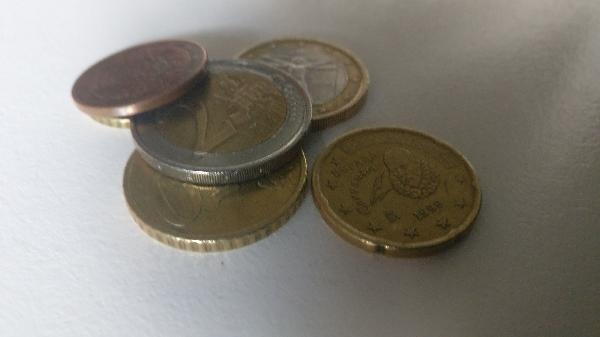Fifty Cent: (121, 145, 311, 258)
Five Cent: (69, 38, 212, 119)
One Euro: (238, 39, 371, 129)
Twenty Cent: (312, 125, 488, 258)
Two Euro: (119, 60, 312, 178)
